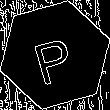P_N: (30, 26, 80, 84)
